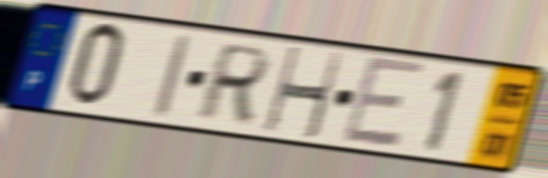0: (64, 19, 130, 115)
1: (422, 68, 466, 153)
E: (338, 52, 429, 151)
H: (260, 44, 347, 143)
I: (150, 31, 196, 122)
R: (191, 40, 276, 125)
